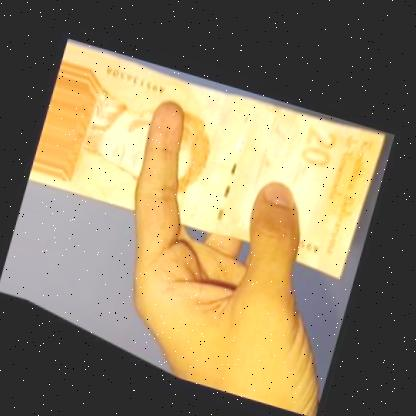twenty-front-vef: (27, 34, 391, 272)
